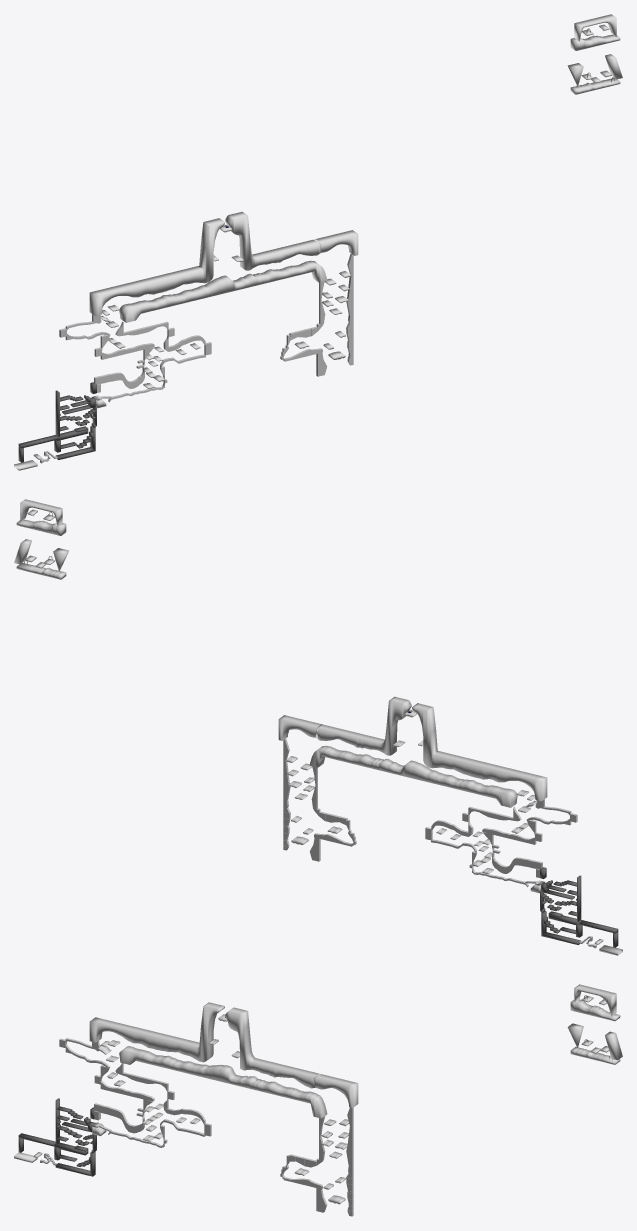
3 renders of one model, top to bottom at view 1: azimuth 30°, elevation 25°; view 2: azimuth 150°, elevation 25°; view 3: azimuth 330°, elevation 25°, orthographic.
Parts seen in each view (by area): view 1: 02.Ground_Cube.006, 02.Ground.002_Cube.002, 02.Ground.001_Cube.001; view 2: 02.Ground_Cube.006, 02.Ground.002_Cube.002, 02.Ground.001_Cube.001; view 3: 02.Ground_Cube.006, 02.Ground.002_Cube.002, 02.Ground.001_Cube.001, 02.Ground.053_Cube.4053, 02.Ground.050_Cube.4050, 002.Cube.058_Cube.1600, 02.Ground.049_Cube.4049, 002.Cube.045_Cube.1587, 02.Ground.051_Cube.4051.
Boxes of the visible parts, x1=… form: 02.Ground_Cube.006: x1=119, y1=260, x2=327, y2=322; 02.Ground.002_Cube.002: x1=89, y1=218, x2=224, y2=316; 02.Ground.001_Cube.001: x1=225, y1=211, x2=358, y2=270; 02.Ground_Cube.006: x1=309, y1=745, x2=517, y2=807; 02.Ground.002_Cube.002: x1=412, y1=703, x2=547, y2=801; 02.Ground.001_Cube.001: x1=278, y1=696, x2=411, y2=755; 02.Ground_Cube.006: x1=119, y1=1046, x2=327, y2=1118; 02.Ground.002_Cube.002: x1=89, y1=1002, x2=224, y2=1062; 02.Ground.001_Cube.001: x1=225, y1=1007, x2=358, y2=1107; 02.Ground.053_Cube.4053: x1=574, y1=984, x2=616, y2=1016; 02.Ground.050_Cube.4050: x1=570, y1=999, x2=620, y2=1021; 002.Cube.058_Cube.1600: x1=94, y1=1103, x2=144, y2=1133; 02.Ground.049_Cube.4049: x1=570, y1=1047, x2=620, y2=1064; 002.Cube.045_Cube.1587: x1=100, y1=1081, x2=154, y2=1101; 02.Ground.051_Cube.4051: x1=605, y1=1031, x2=622, y2=1060.
Size of the model in its own units: 488 by 237 by 8.
